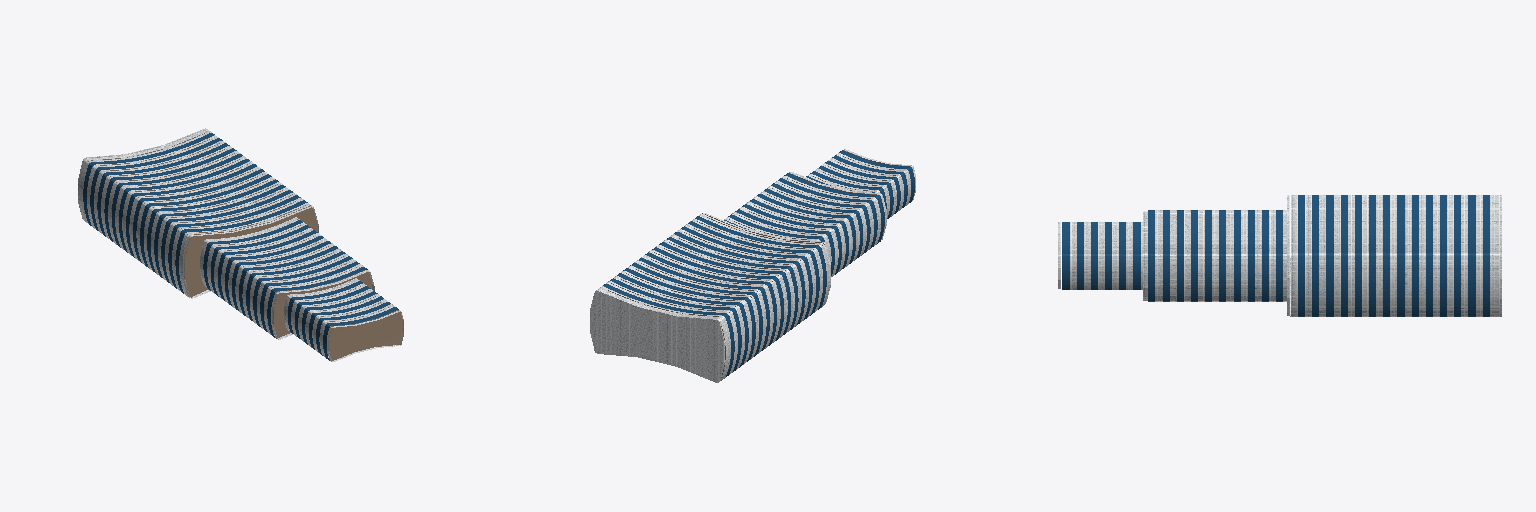
3 views of the same model, side by side, from view 1: azimuth 30°, elevation 25°; view 2: azimuth 150°, elevation 25°; view 3: azimuth 270°, elevation 25° (orthographic).
Visible parts, largest first — view 1: glaz_01, wall_02, slab_01, slab_1_01, wall_04, wall_01; view 2: glaz_01, wall_02, wall_04, slab_1_01, wall_01; view 3: glaz_01, wall_02, wall_04, wall_01.
Boxes of the visible parts, box(x1,y1,x2,y2) form: glaz_01: box(83, 133, 398, 360); wall_02: box(87, 135, 394, 357); slab_01: box(183, 206, 402, 360); slab_1_01: box(88, 133, 388, 355); wall_04: box(78, 128, 403, 361); wall_01: box(78, 129, 211, 223); glaz_01: box(603, 150, 914, 376); wall_02: box(606, 153, 910, 374); wall_04: box(590, 149, 915, 382); slab_1_01: box(608, 156, 895, 377); wall_01: box(598, 286, 730, 380); glaz_01: box(1062, 195, 1489, 316); wall_02: box(1070, 195, 1482, 316); wall_04: box(1058, 195, 1501, 316); wall_01: box(1490, 195, 1499, 316).
Size of the model in its own units: 1739 by 780 by 4916.
3 materials, 1 textured.